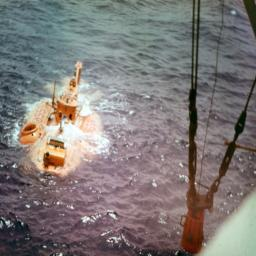submarine: (20, 59, 106, 176)
